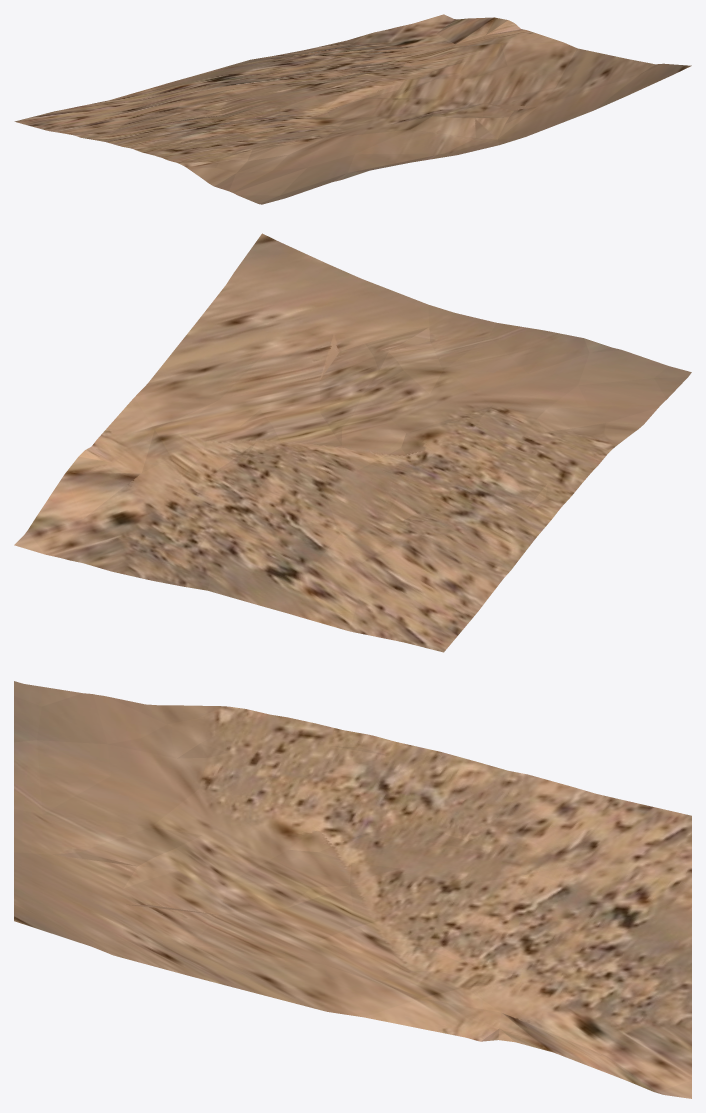
The picture shows the model from 3 angles, top to bottom: view 1: azimuth 30°, elevation 25°; view 2: azimuth 150°, elevation 25°; view 3: azimuth 270°, elevation 25°; orthographic projection. The views are drawn at different scales.
Size of the model in its own units: 1.04 by 0.3123 by 1.04.
3 materials, 3 textured.
